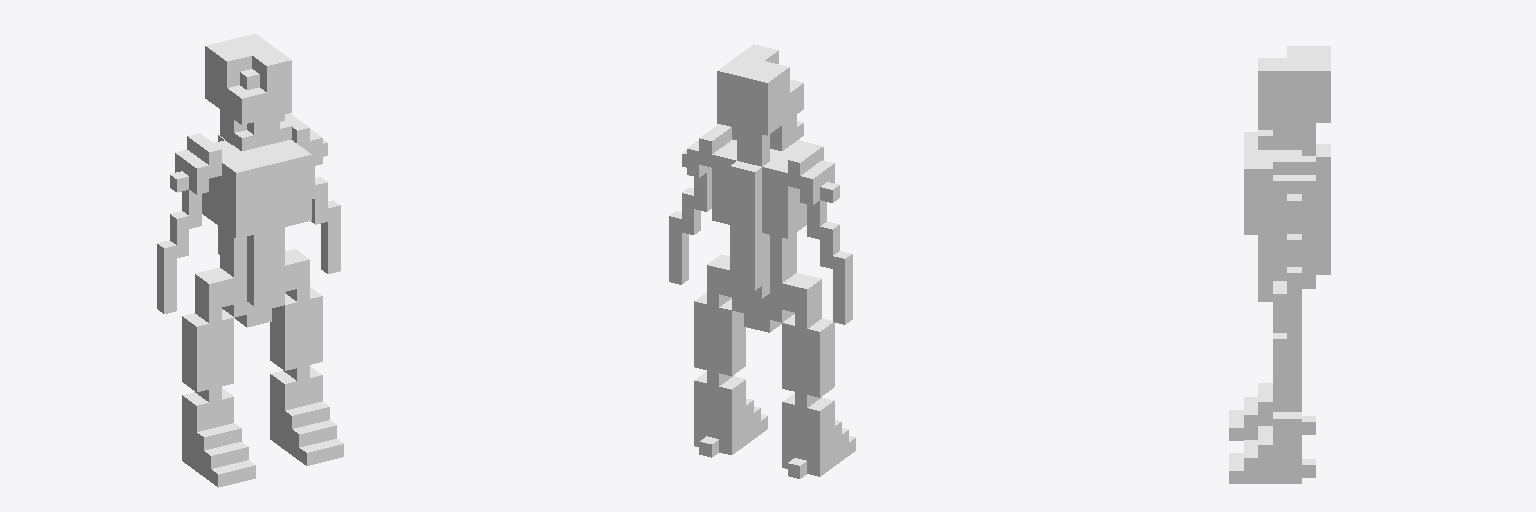
Rendered from zombie.obj.
3 views of the same model, side by side, from view 1: azimuth 30°, elevation 25°; view 2: azimuth 150°, elevation 25°; view 3: azimuth 270°, elevation 25° (orthographic).
Parts seen in each view (by area): view 1: zombie; view 2: zombie; view 3: zombie.
Boxes of the visible parts, <box> form: zombie: <box>157,34,343,487</box>; zombie: <box>669,44,855,478</box>; zombie: <box>1229,46,1330,483</box>.
Bounding box in the file's own units: 5.37 × 11.51 × 2.68.